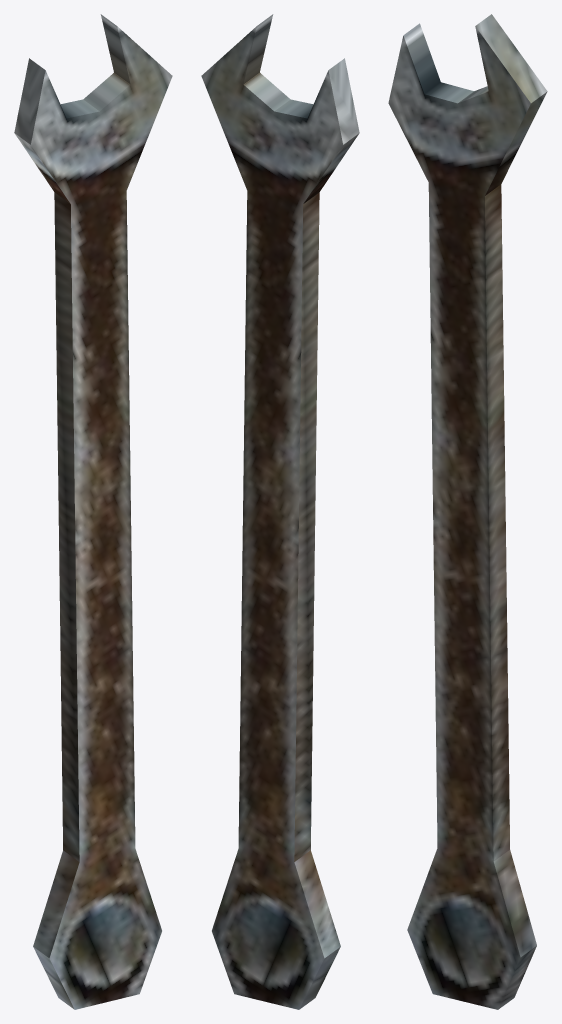
The model's file is Wrench.obj.
3 views of the same model, side by side, from view 1: azimuth 30°, elevation 25°; view 2: azimuth 150°, elevation 25°; view 3: azimuth 330°, elevation 25° (orthographic).
Parts seen in each view (by area): view 1: Wrench; view 2: Wrench; view 3: Wrench.
Part boxes in pixels (left/top/right/bottom): Wrench: left=14, top=14, right=172, bottom=1009; Wrench: left=201, top=14, right=359, bottom=1009; Wrench: left=388, top=14, right=547, bottom=1009.
Bounding box in the file's own units: 0.3133 × 2.05 × 0.0629.
Materials: 1 (1 with a texture image).
